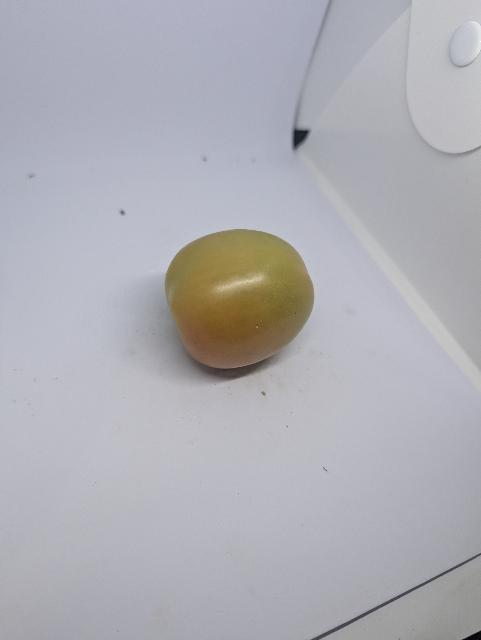breaker: (162, 221, 320, 377)
